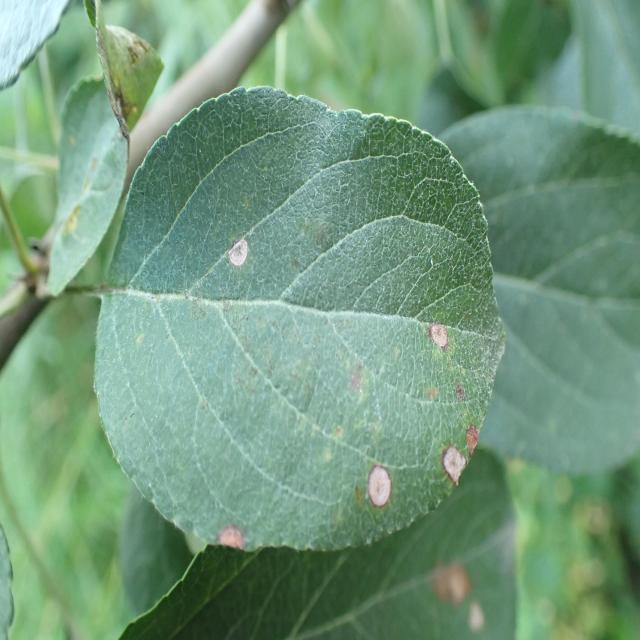frog-eye-leaf-spot: (94, 87, 507, 556)
